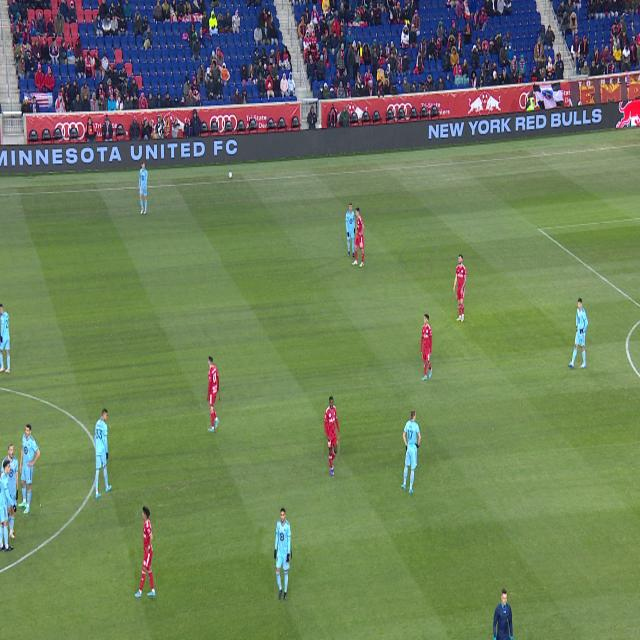player: (135, 507, 156, 598), (19, 424, 40, 514), (401, 411, 421, 494), (94, 409, 112, 499), (275, 508, 291, 600), (0, 460, 16, 551), (568, 299, 588, 368), (324, 396, 340, 475), (1, 444, 19, 507), (453, 255, 467, 322), (208, 357, 219, 432), (420, 314, 432, 380), (0, 304, 11, 374), (352, 207, 364, 267), (138, 161, 148, 214), (346, 204, 355, 257), (7, 500, 16, 539)
referee: (493, 588, 513, 640)
